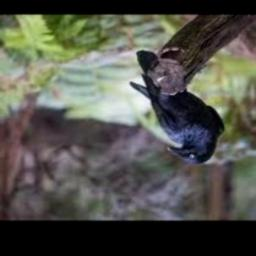Crow: (130, 74, 225, 164)
